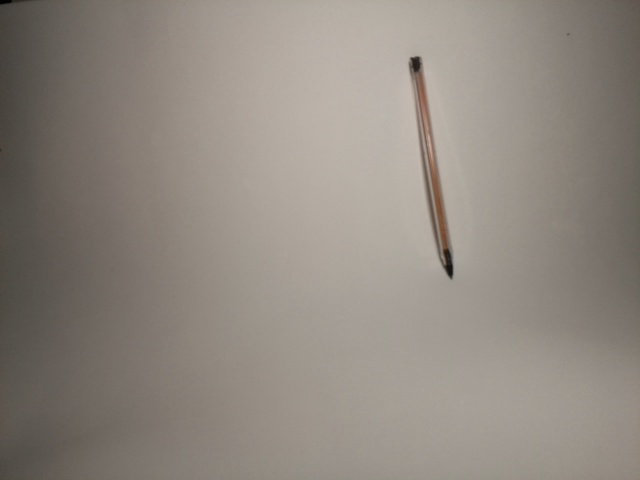Caneta: (405, 58, 471, 274)
